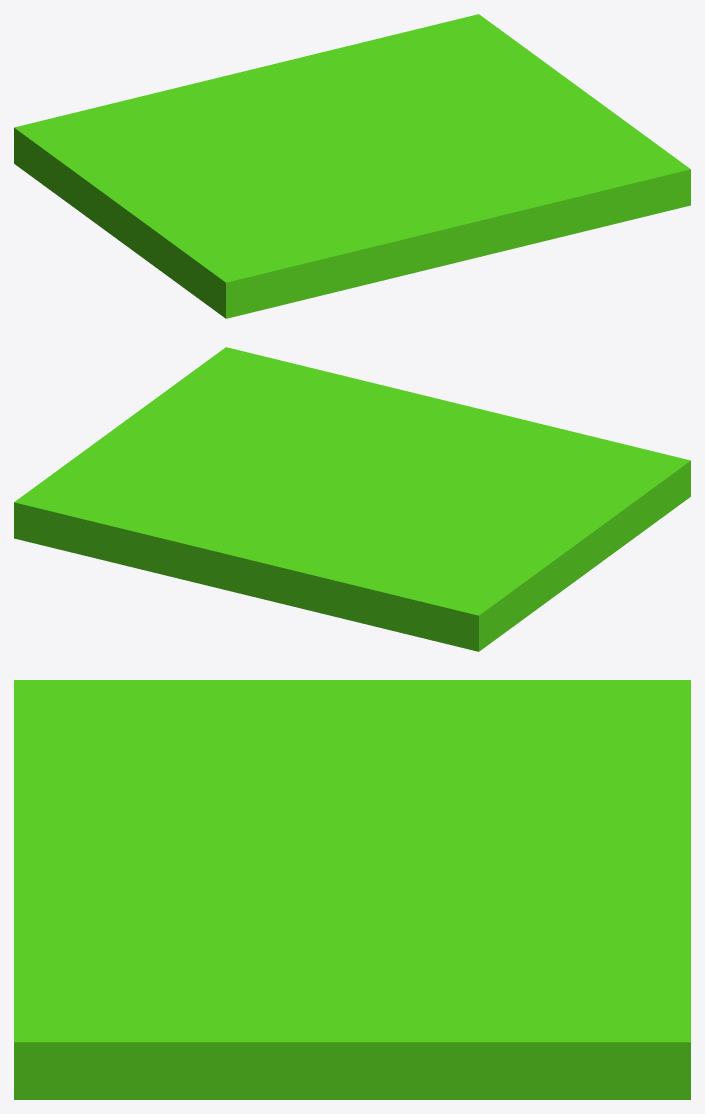
Rendered from voikansi.fbx.
3 renders of one model, top to bottom at view 1: azimuth 30°, elevation 25°; view 2: azimuth 150°, elevation 25°; view 3: azimuth 270°, elevation 25°, orthographic. The views are drawn at different scales.
Parts seen in each view (by area): view 1: Cube.001; view 2: Cube.001; view 3: Cube.001.
Part boxes in pixels (box(x1,y1,x2,y2)): Cube.001: box(14, 14, 690, 318); Cube.001: box(14, 347, 690, 651); Cube.001: box(14, 680, 690, 1099).
Bounding box in the file's own units: 388 × 28.81 × 306.
